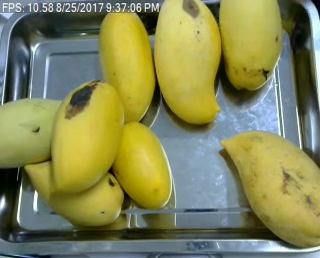Mango: (219, 125, 320, 247), (148, 1, 222, 127), (50, 79, 125, 195), (19, 157, 131, 234), (95, 4, 155, 130), (107, 121, 180, 213), (216, 0, 286, 88), (0, 93, 72, 167)
